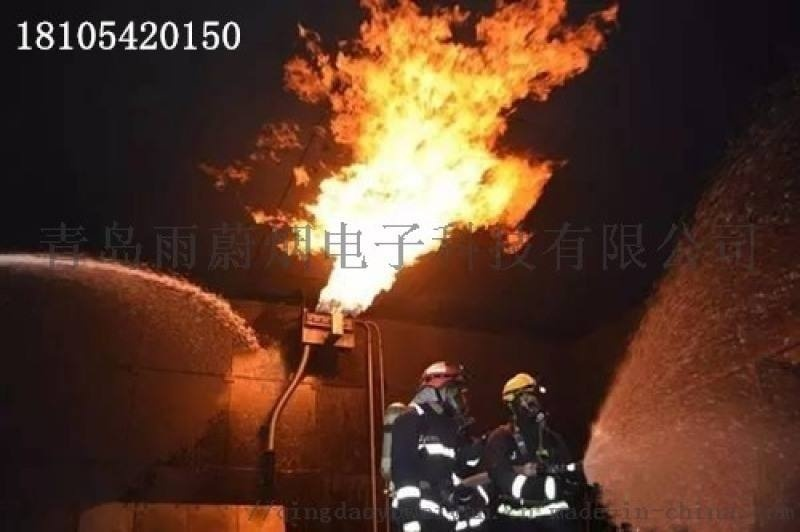fire: (285, 1, 609, 305)
